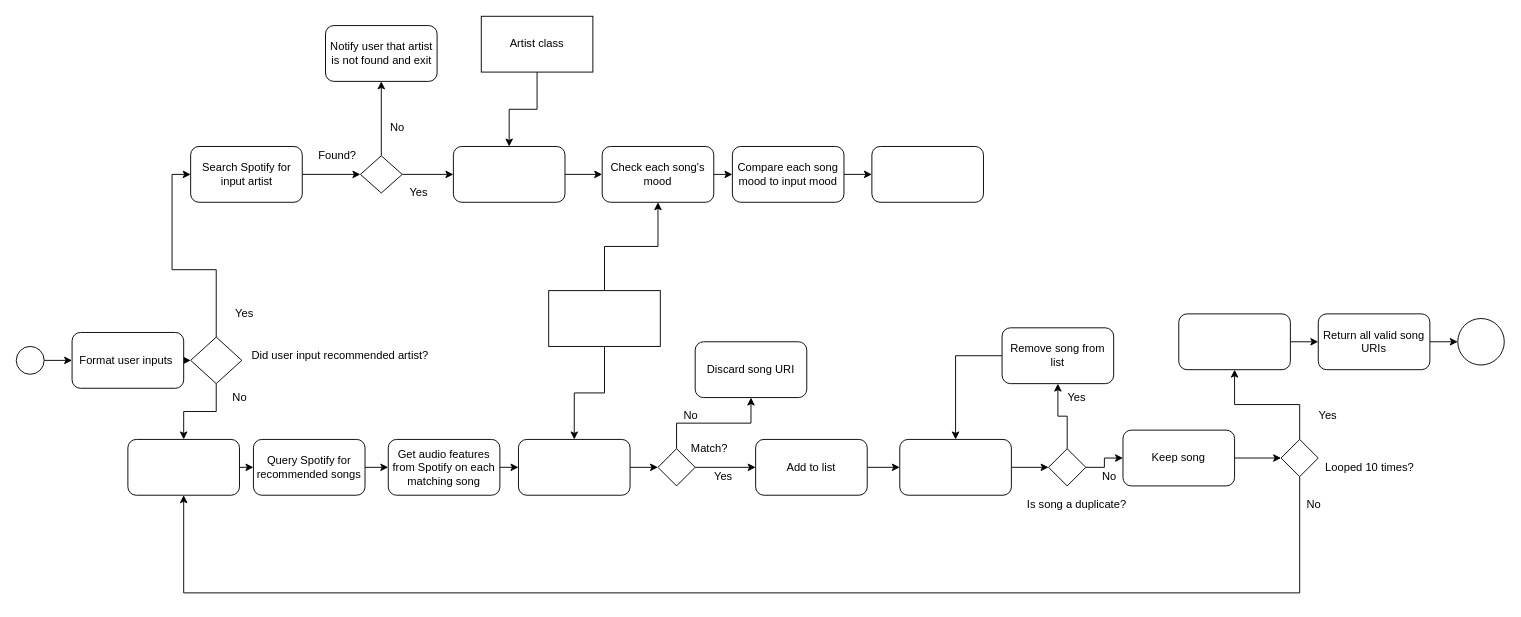
This 1521x617 diagram has some shape labels left out. Each missing label, with the centre of its shape:
"Add songs with matching moods to list" goes at point (927, 174).
"Check mood and adjust recommendation search parameters" goes at point (183, 466).
"Check removed songs list with songs on algorithm list" goes at point (1234, 341).
"Compare each song moods to input moods" goes at point (574, 466).
"Compare songs in list to songs on playlist already" goes at point (955, 466).
"Get artist information and query Spotify for songs" goes at point (508, 174).
"Track class" goes at point (604, 318).
